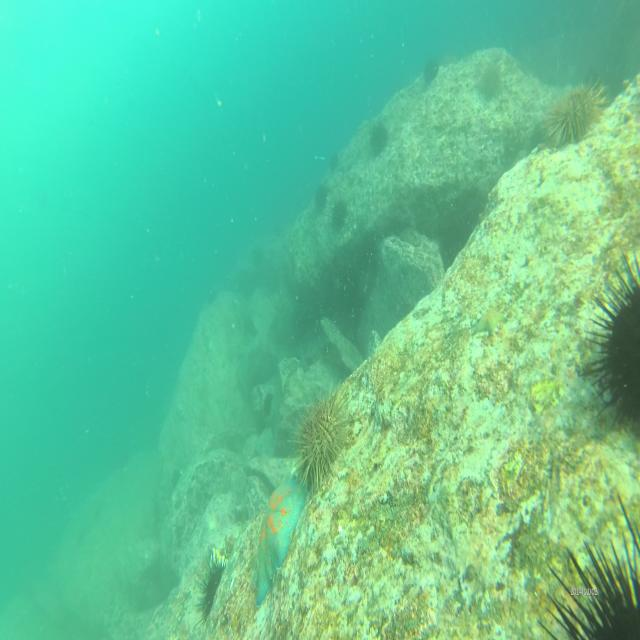echinus: (540, 490, 640, 640), (584, 246, 640, 443), (293, 382, 359, 503), (544, 76, 609, 149), (193, 549, 229, 625), (477, 61, 503, 98), (330, 197, 350, 242), (368, 119, 388, 160), (420, 56, 440, 86), (313, 182, 330, 215), (328, 147, 340, 175)
starfish: (254, 472, 309, 610)
